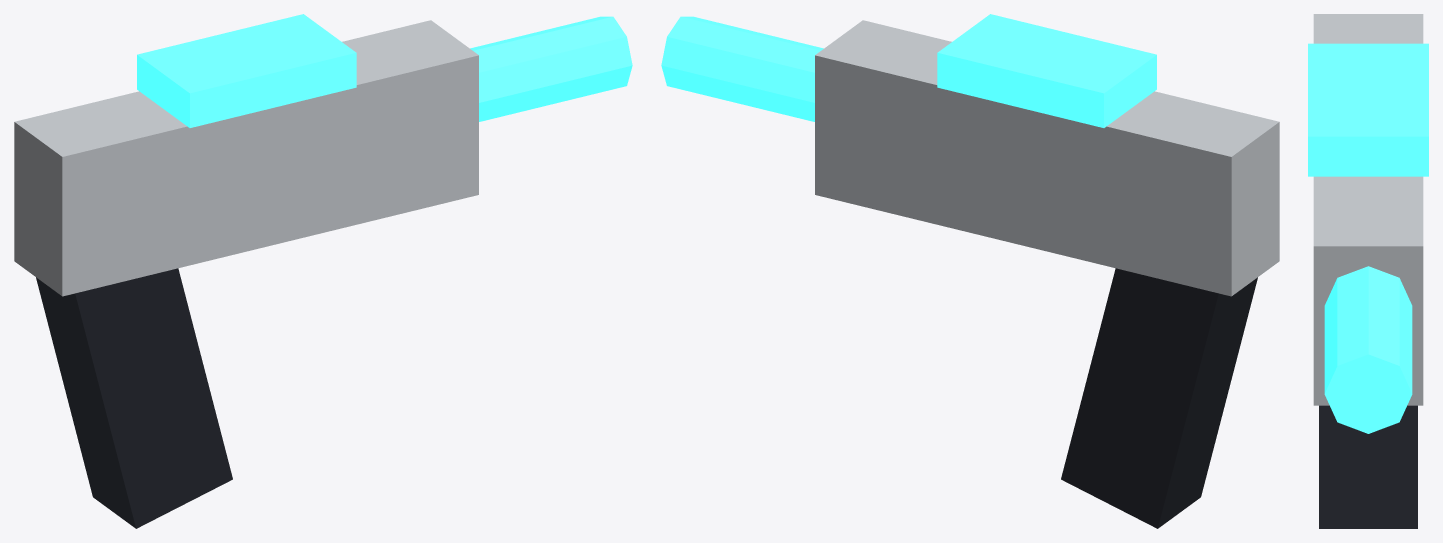
File: laser_pistol.glb
The picture shows the model from 3 angles, left to right: view 1: azimuth 30°, elevation 25°; view 2: azimuth 150°, elevation 25°; view 3: azimuth 270°, elevation 25°; orthographic projection. The views are drawn at different scales.
Parts seen in each view (by area): view 1: laser_pistol; view 2: laser_pistol; view 3: laser_pistol.
Boxes of the visible parts, left/top/right/bottom form: laser_pistol: left=14, top=14, right=632, bottom=528; laser_pistol: left=661, top=14, right=1279, bottom=528; laser_pistol: left=1308, top=14, right=1428, bottom=528.
Size of the model in its own units: 0.345 by 0.2449 by 0.055.
